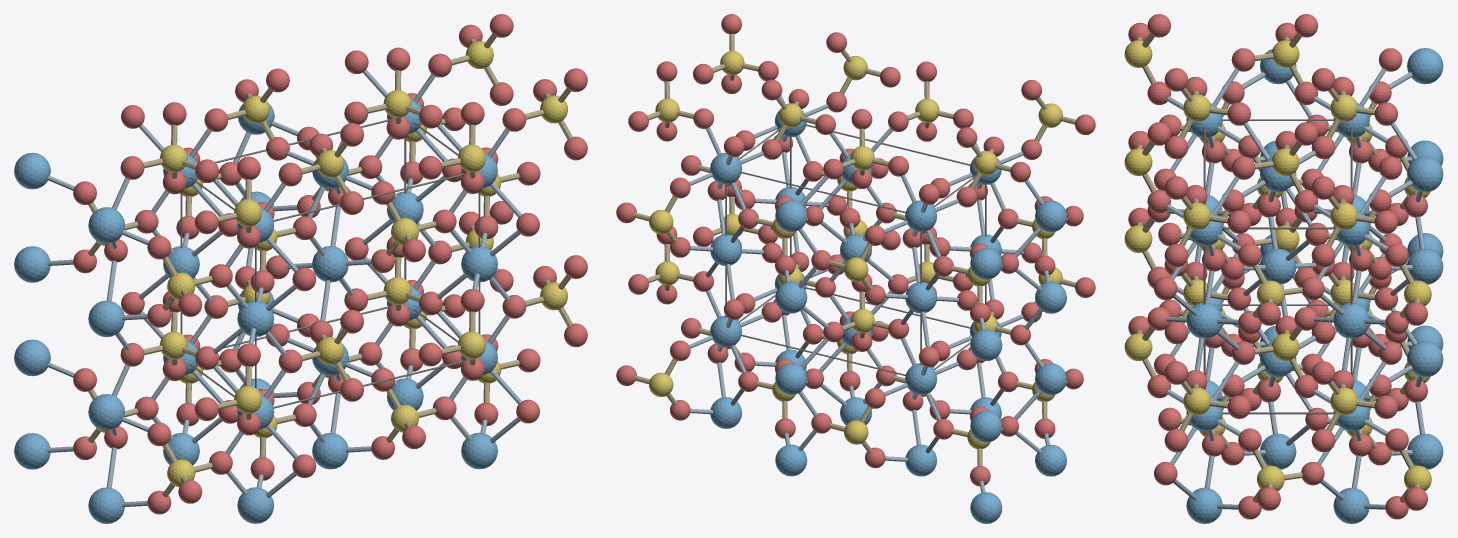
Rendered from CuSO4_anhydrous.glb.
3 views of the same model, side by side, from view 1: azimuth 30°, elevation 25°; view 2: azimuth 150°, elevation 25°; view 3: azimuth 270°, elevation 25° (orthographic). The views are drawn at different scales.
Visible parts, largest first — view 1: O_atoms, bonds, Cu_atoms, S_atoms, unit_cell_outline; view 2: O_atoms, Cu_atoms, bonds, S_atoms, unit_cell_outline; view 3: O_atoms, bonds, Cu_atoms, S_atoms, unit_cell_outline.
Part boxes in pixels (x1,y1,x2,y2): O_atoms: [73, 14, 587, 514]; bonds: [47, 33, 572, 507]; Cu_atoms: [14, 99, 497, 523]; S_atoms: [95, 41, 568, 487]; unit_cell_outline: [180, 119, 480, 408]; O_atoms: [616, 14, 1095, 486]; Cu_atoms: [710, 110, 1066, 523]; bonds: [634, 34, 1075, 492]; S_atoms: [649, 51, 1062, 449]; unit_cell_outline: [725, 124, 986, 375]; O_atoms: [1128, 14, 1427, 519]; bonds: [1136, 33, 1424, 509]; Cu_atoms: [1186, 48, 1443, 523]; S_atoms: [1124, 40, 1431, 490]; unit_cell_outline: [1203, 119, 1352, 414].
Size of the model in its own units: 16.72 by 13.96 by 10.48.
